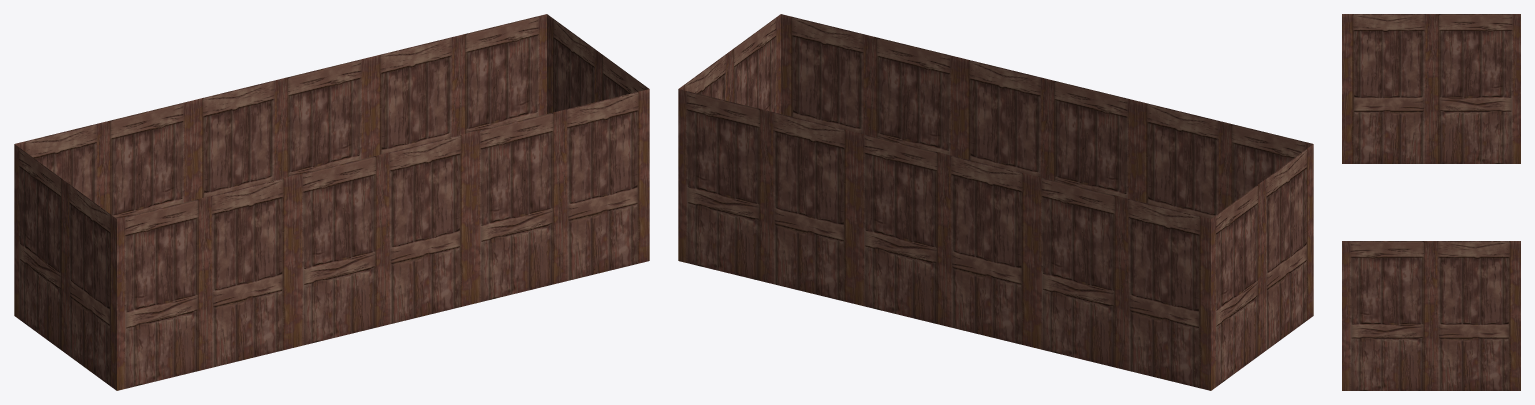
File: wall_wood_up1x3.fbx
3 views of the same model, side by side, from view 1: azimuth 30°, elevation 25°; view 2: azimuth 150°, elevation 25°; view 3: azimuth 270°, elevation 25° (orthographic). The views are drawn at different scales.
Parts seen in each view (by area): view 1: parede_maderia_cima1x3; view 2: parede_maderia_cima1x3; view 3: parede_maderia_cima1x3.
Boxes of the visible parts, x1,y1,x2,y2 form: parede_maderia_cima1x3: [14, 14, 649, 390]; parede_maderia_cima1x3: [678, 14, 1313, 390]; parede_maderia_cima1x3: [1342, 14, 1520, 390].
Size of the model in its own units: 449 by 139 by 150.
